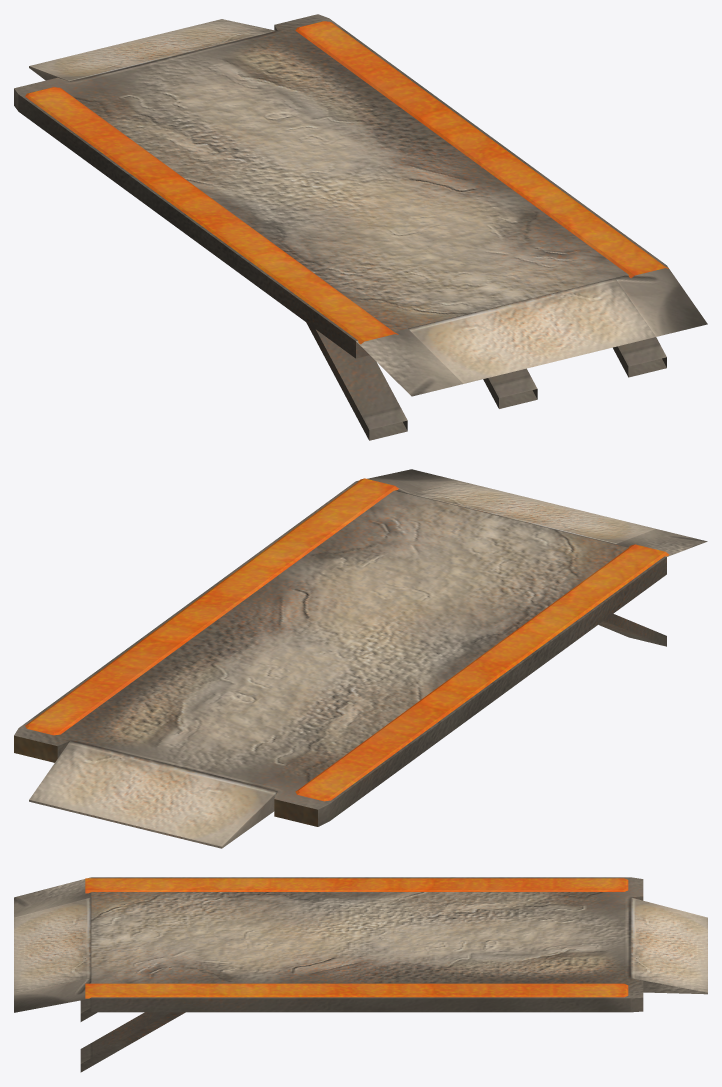
Rendered from Bridge.obj.
The picture shows the model from 3 angles, top to bottom: view 1: azimuth 30°, elevation 25°; view 2: azimuth 150°, elevation 25°; view 3: azimuth 270°, elevation 25°; orthographic projection. The views are drawn at different scales.
Visible parts, largest first — view 1: Bridge.003_Bridge; view 2: Bridge.003_Bridge; view 3: Bridge.003_Bridge.
Part boxes in pixels (x1,y1,x2,y2): Bridge.003_Bridge: [14, 14, 707, 440]; Bridge.003_Bridge: [14, 469, 707, 848]; Bridge.003_Bridge: [14, 877, 707, 1072].
Size of the model in its own units: 2.49 by 0.7466 by 6.03.
Materials: 1 (1 with a texture image).
